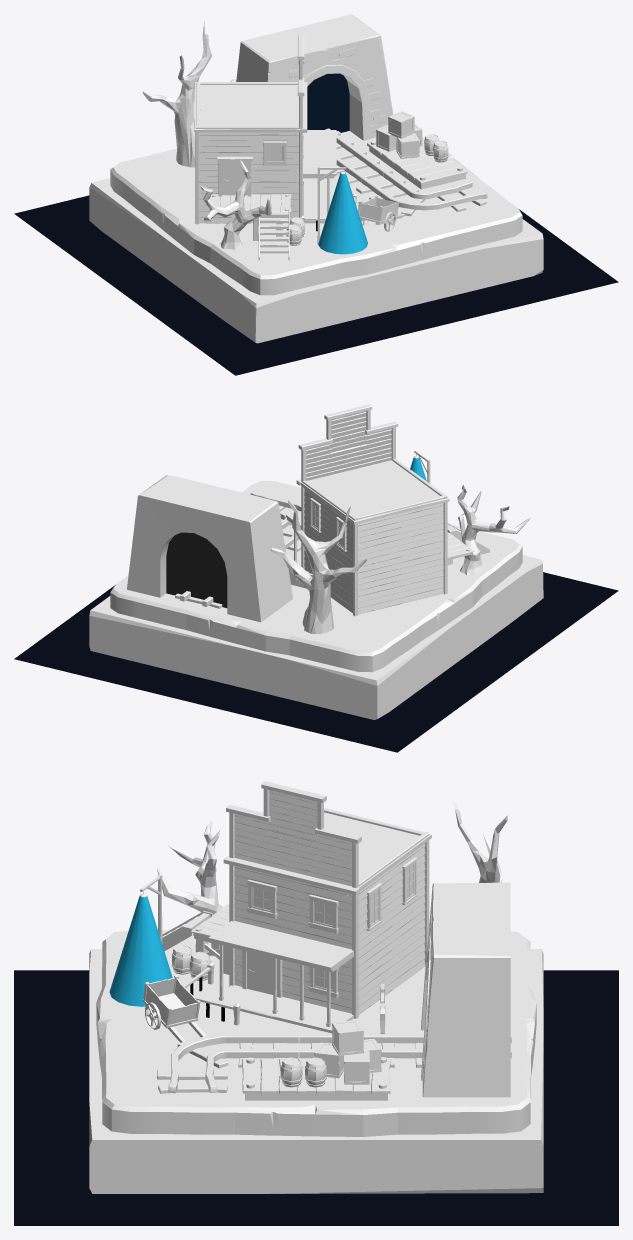
The model's file is 0001_mini.fbx.
3 renders of one model, top to bottom at view 1: azimuth 30°, elevation 25°; view 2: azimuth 150°, elevation 25°; view 3: azimuth 270°, elevation 25°, orthographic. The views are drawn at different scales.
Parts seen in each view (by area): view 1: Plane, BG_GroundPanel_02_stage, BG_TrainTunnel, BG_Ground_Wall_01_02__3_, BG_GroundPanel_02, BG_Ground_Wall_01_01__1_, BG_Ground_Wall_01_02__2_, BG_Ground_Wall_01_02__1_, BG_WoodPanel_01_stage___8_, BG_Ground_Wall_01_01__3_, BG_WoodPillar_4M_lamp, BG_Tree_01 (+19 smaller); view 2: Plane, BG_GroundPanel_02_stage, BG_TrainTunnel, BG_Ground_Wall_01_02__1_, BG_GroundPanel_02, BG_WoodPanel_01__3_, BG_Ground_Wall_01_01, BG_WoodPanel_01__7_, Plane_1, BG_Tree_01, BG_Ground_Wall_01_01__3_, BG_Ground_Wall_01_02 (+9 smaller); view 3: Plane, BG_GroundPanel_02_stage, BG_TrainTunnel, BG_Ground_Wall_01_02__2_, BG_Ground_Wall_01_02, BG_Ground_Wall_01_01__2_, BG_Ground_Wall_01_01__1_, BG_WoodPanel_01_stage___1_, BG_WoodPanel_01__2_, BG_WoodPillar_4M_lamp, BG_Wood_Low_Wall01_stage, BG_Ground_Wall_01_01 (+34 smaller).
Boxes of the visible parts, x1,y1,x2,y2 form: Plane: (14,195,618,375); BG_GroundPanel_02_stage: (89,178,543,343); BG_TrainTunnel: (236,14,393,140); BG_Ground_Wall_01_02__3_: (210,229,343,295); BG_GroundPanel_02: (194,83,300,132); BG_Ground_Wall_01_01__1_: (304,207,446,278); BG_Ground_Wall_01_02__2_: (398,179,522,253); BG_Ground_Wall_01_02__1_: (110,148,195,219); BG_WoodPanel_01_stage___8_: (199,132,298,176); BG_Ground_Wall_01_01__3_: (150,190,288,262); BG_WoodPillar_4M_lamp: (317,166,367,254); BG_Tree_01: (142,21,236,167); Plane: (14,572,618,752); BG_GroundPanel_02_stage: (89,555,543,719); BG_TrainTunnel: (127,475,292,622); BG_Ground_Wall_01_02__1_: (289,602,422,672); BG_GroundPanel_02: (300,460,449,524); BG_WoodPanel_01__3_: (358,547,443,614); BG_Ground_Wall_01_01: (186,590,336,655); BG_WoodPanel_01__7_: (358,503,443,566); Plane_1: (166,532,227,607); BG_Tree_01: (271,500,367,633); BG_Ground_Wall_01_01__3_: (376,569,482,639); BG_Ground_Wall_01_02: (110,575,196,629); Plane: (14,970,618,1225); BG_GroundPanel_02_stage: (89,949,543,1193); BG_TrainTunnel: (421,882,510,1097); BG_Ground_Wall_01_02__2_: (102,1053,234,1134); BG_Ground_Wall_01_02: (398,1053,530,1134); BG_Ground_Wall_01_01__2_: (235,1053,397,1136); BG_Ground_Wall_01_01__1_: (96,984,234,1076); BG_WoodPanel_01_stage___1_: (234,866,351,949); BG_WoodPanel_01__2_: (358,903,425,1014); BG_WoodPillar_4M_lamp: (109,874,172,1006); BG_Wood_Low_Wall01_stage: (242,1057,390,1100); BG_Ground_Wall_01_01: (398,984,536,1076).
Size of the model in its own units: 512 by 287 by 512.
